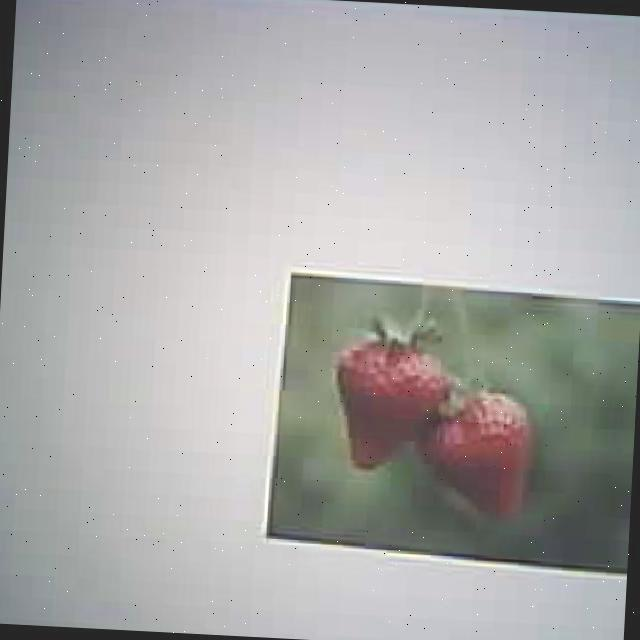ripe: (331, 340, 445, 471), (422, 392, 530, 514)
